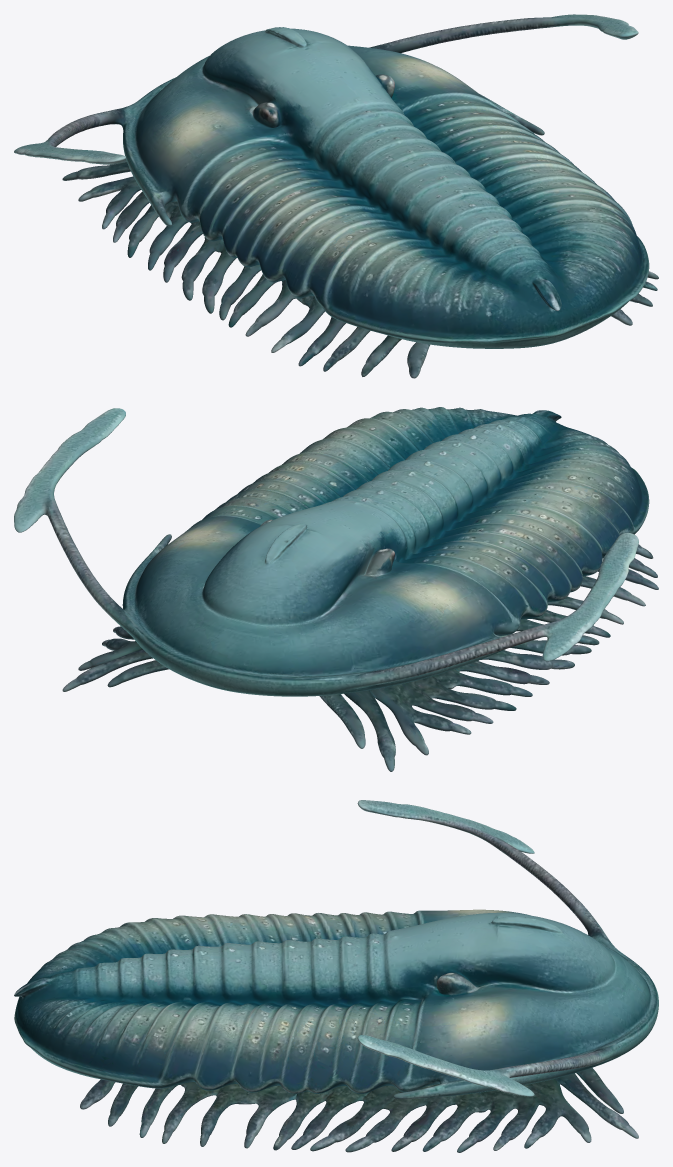
3 renders of one model, top to bottom at view 1: azimuth 30°, elevation 25°; view 2: azimuth 150°, elevation 25°; view 3: azimuth 270°, elevation 25°, orthographic. The views are drawn at different scales.
Visible parts, largest first — view 1: node_0; view 2: node_0; view 3: node_0.
Boxes of the visible parts, bbox=[...] form: node_0: bbox=[14, 14, 658, 378]; node_0: bbox=[14, 407, 658, 771]; node_0: bbox=[14, 800, 658, 1152].
Bounding box in the file's own units: 1.03 × 0.2678 × 1.08.
1 material, 1 textured.
